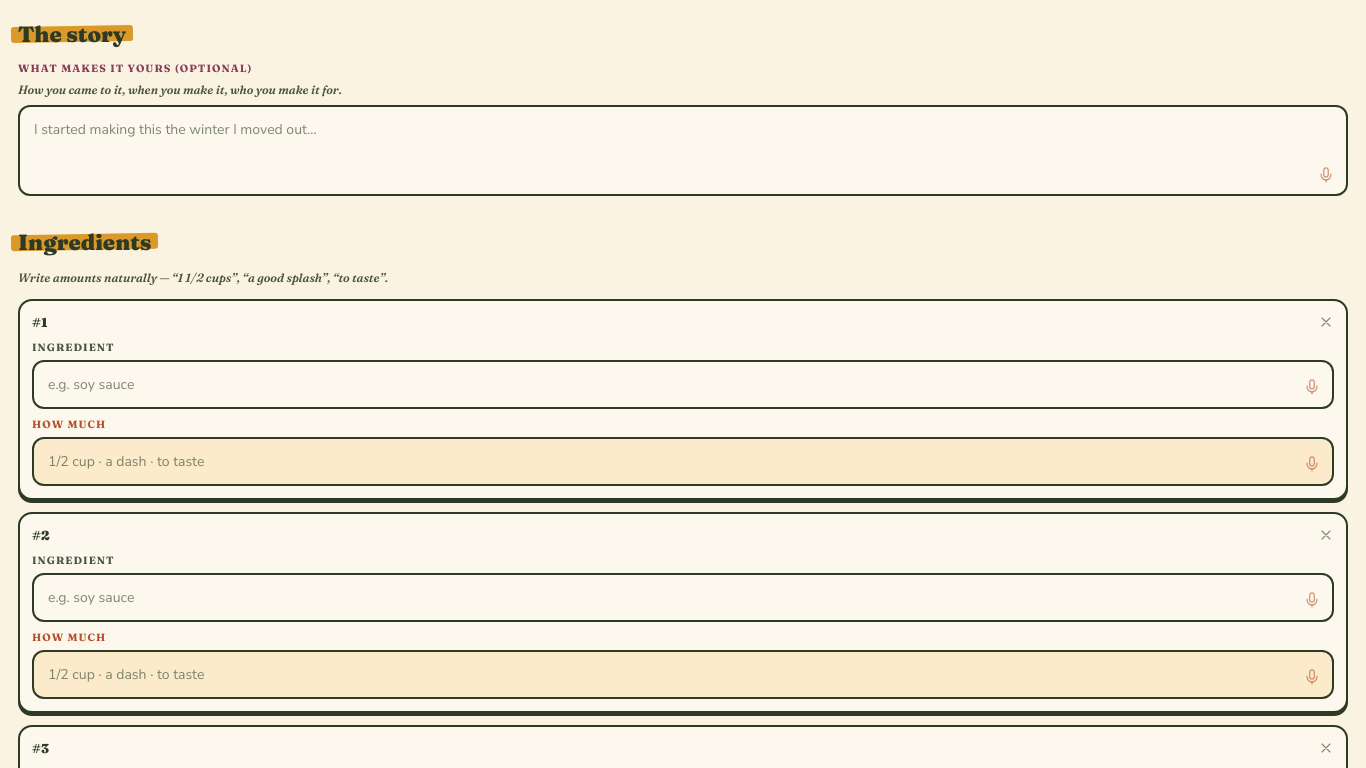
RecipeForm ingredient autosuggest › suggests from the shipped common list with no network at all
The width and height of the screenshot is (1366, 768).
(page scrolled)
Type "gochu" into the 1st dropdown with placeholder "e.g. soy sauce" at (683,384), box x1=32 y1=360 x2=1334 y2=409
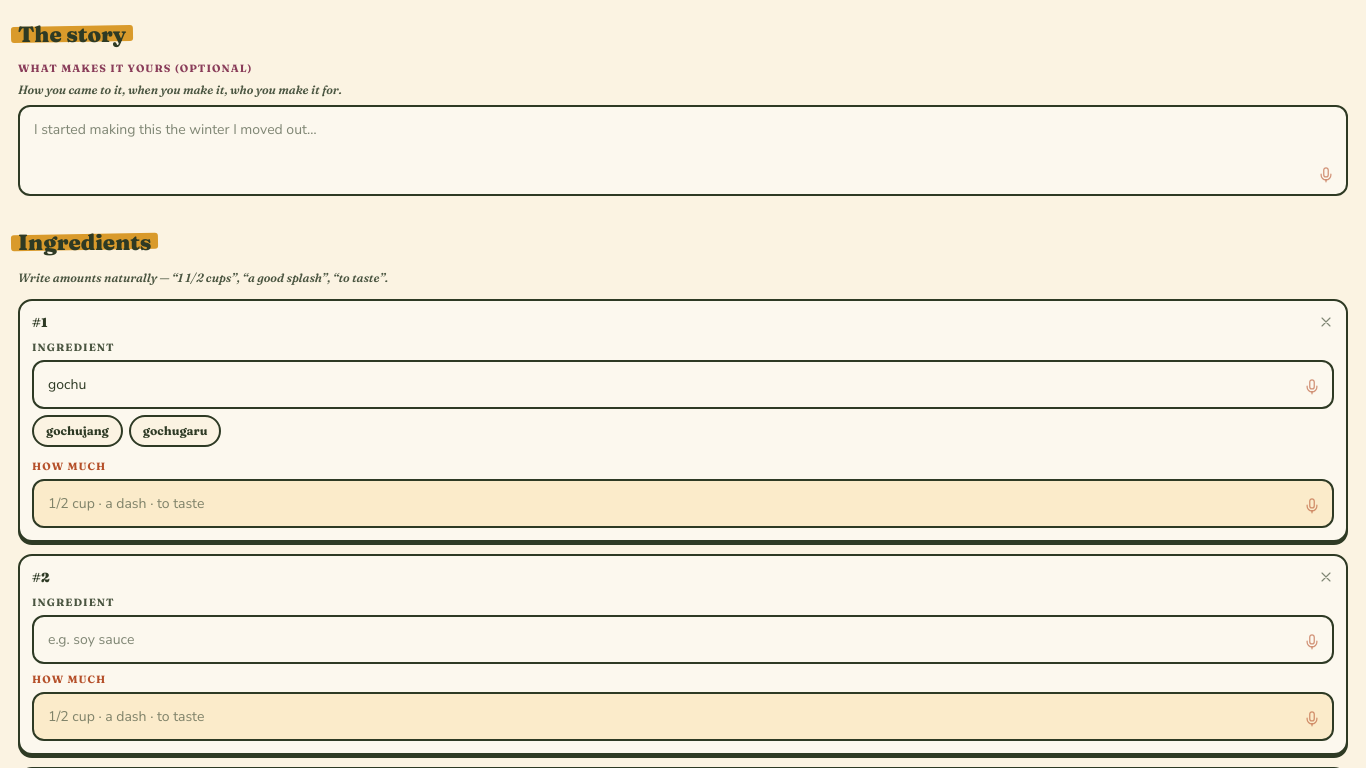
Now the option "gochugaru" is shown, box x1=129 y1=415 x2=222 y2=447
